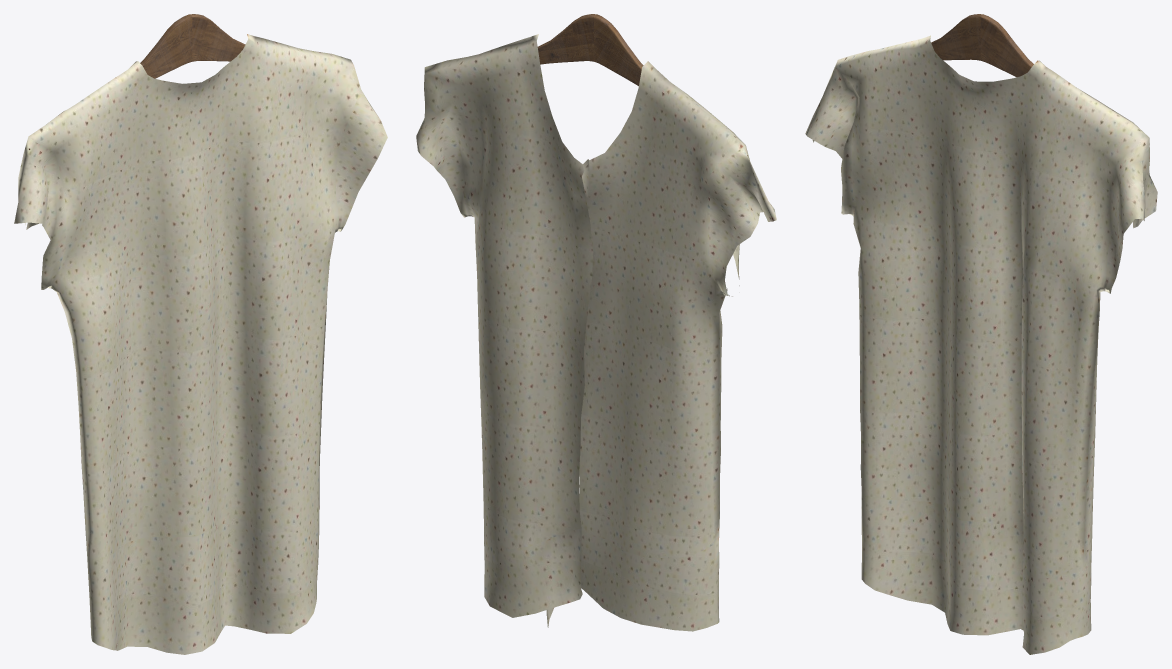
The model's file is hvtop_Clothes_23.glb.
The picture shows the model from 3 angles, left to right: view 1: azimuth 30°, elevation 25°; view 2: azimuth 150°, elevation 25°; view 3: azimuth 330°, elevation 25°; orthographic projection. The views are drawn at different scales.
Visible parts, largest first — view 1: BP_Clothes_23; view 2: BP_Clothes_23; view 3: BP_Clothes_23.
Part boxes in pixels (left/top/right/bottom): BP_Clothes_23: left=14, top=14, right=387, bottom=654; BP_Clothes_23: left=416, top=14, right=776, bottom=631; BP_Clothes_23: left=805, top=14, right=1157, bottom=654.
Size of the model in its own units: 0.4991 by 0.8336 by 0.1051.
2 materials, 2 textured.
